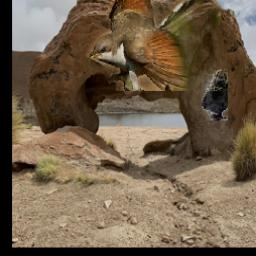Crow: (202, 70, 228, 122)
Cuckoo: (86, 0, 221, 91)
